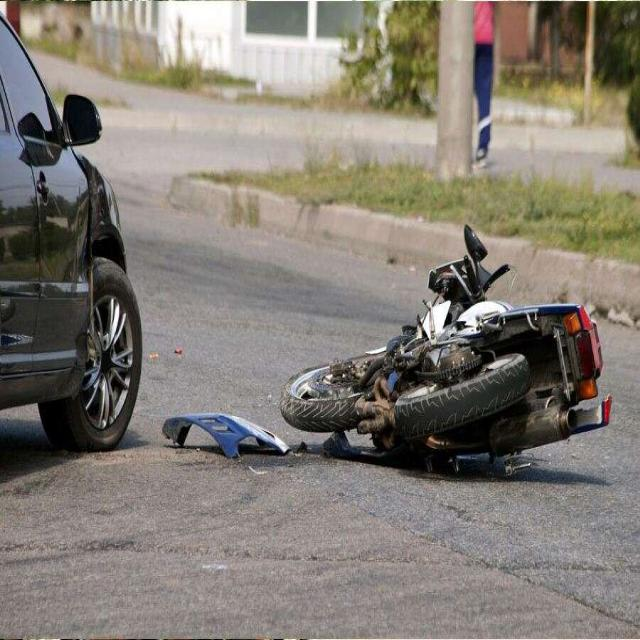accident: (281, 227, 611, 465)
